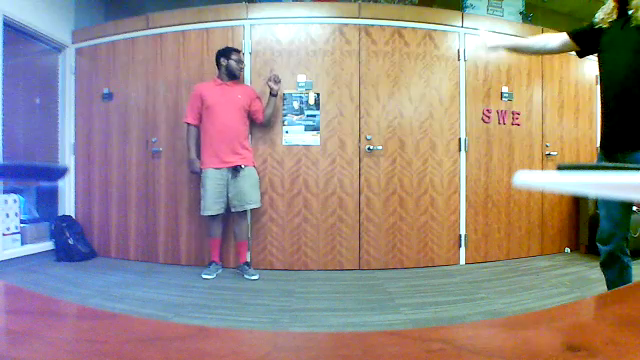up: (263, 65, 284, 98)
